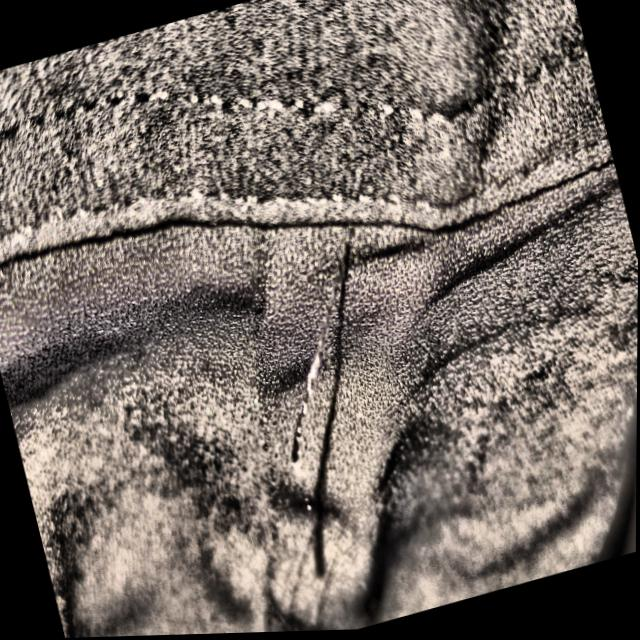Stitch: (221, 193, 451, 603)
